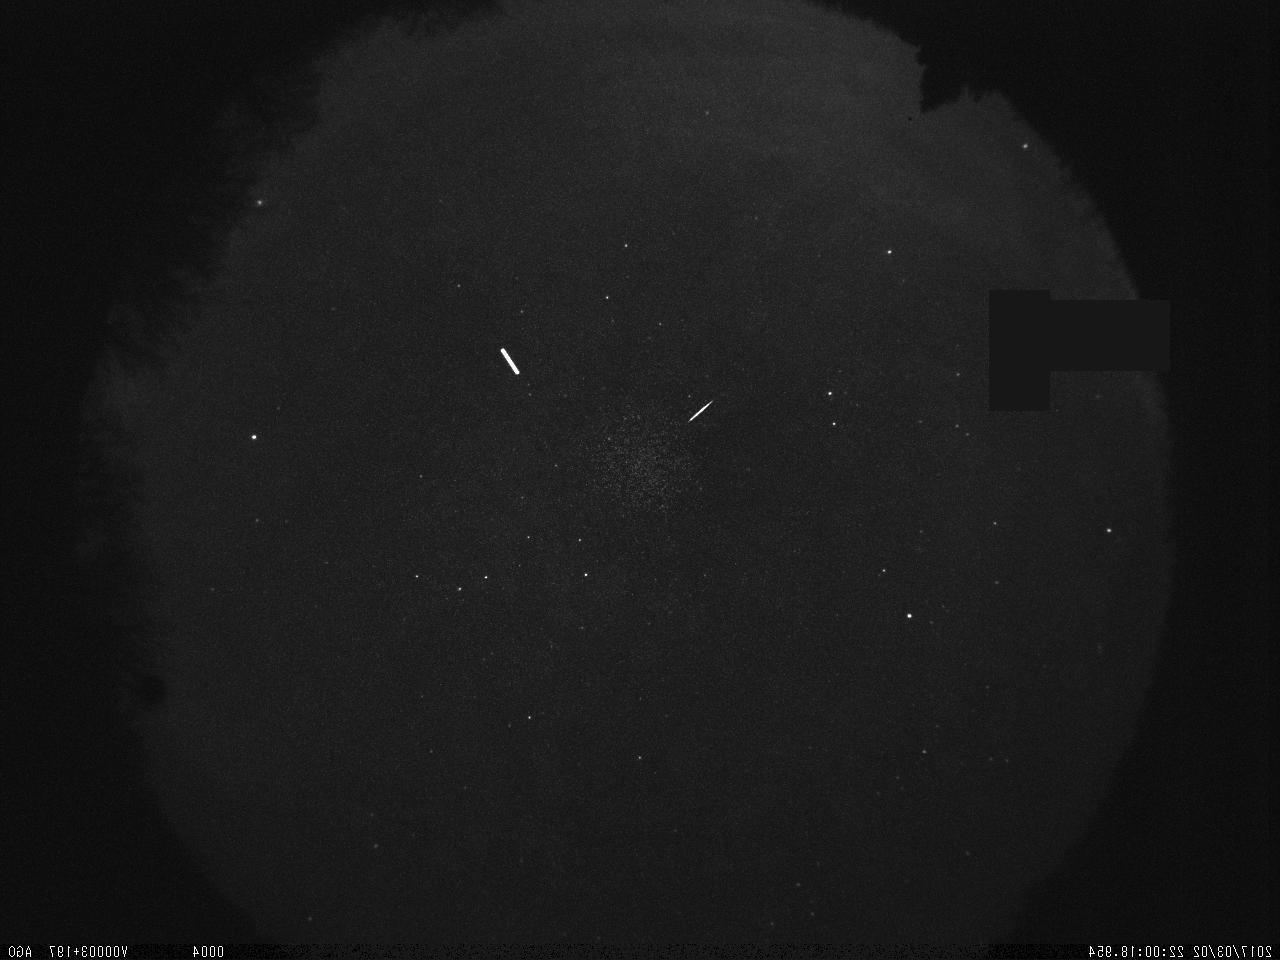meteor: (678, 388, 719, 432)
satelite: (492, 338, 525, 383)
